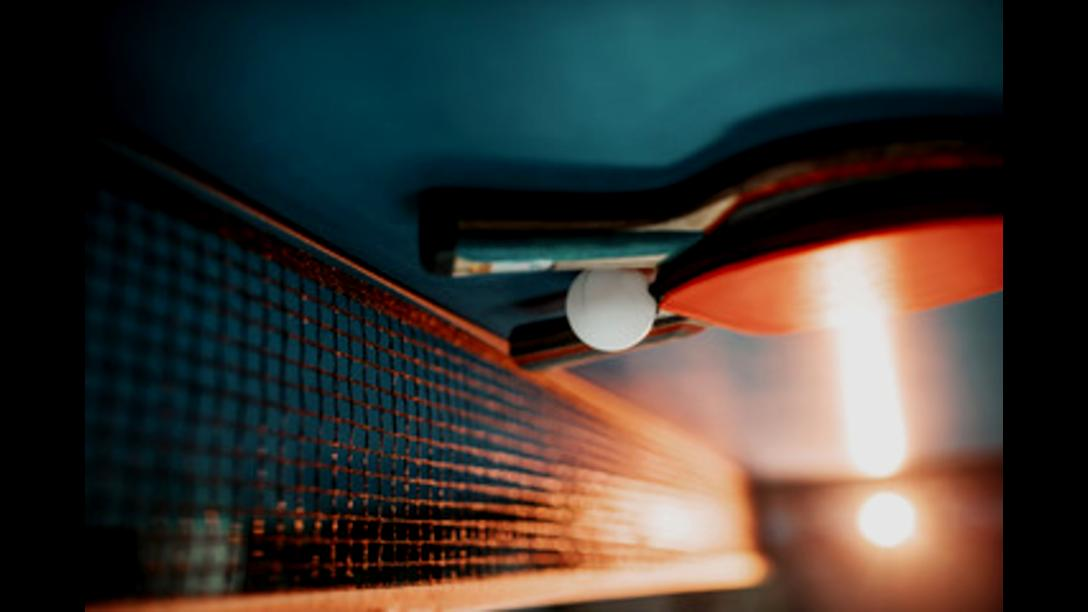Table-Tennis-Ball: (570, 274, 656, 352)
